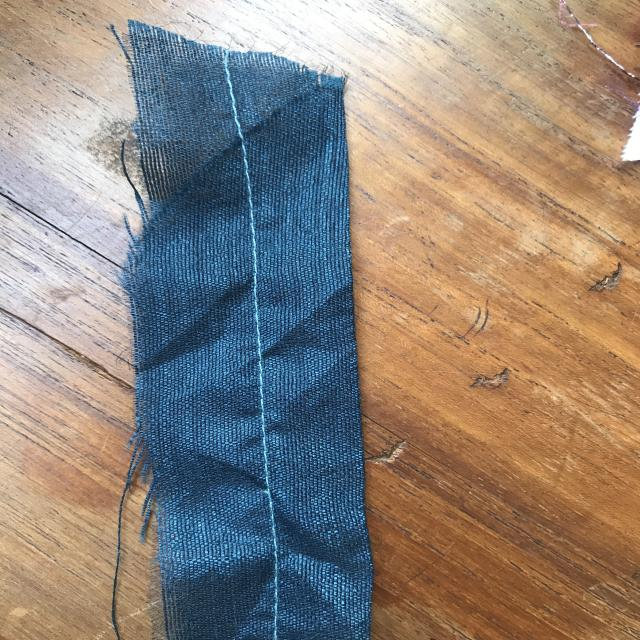good: (236, 235, 277, 449)
